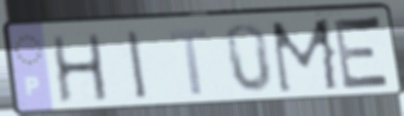0: (224, 22, 275, 98)
E: (331, 13, 395, 93)
H: (48, 30, 112, 106)
I: (123, 27, 152, 103)
M: (267, 16, 344, 98)
T: (166, 27, 211, 99)
